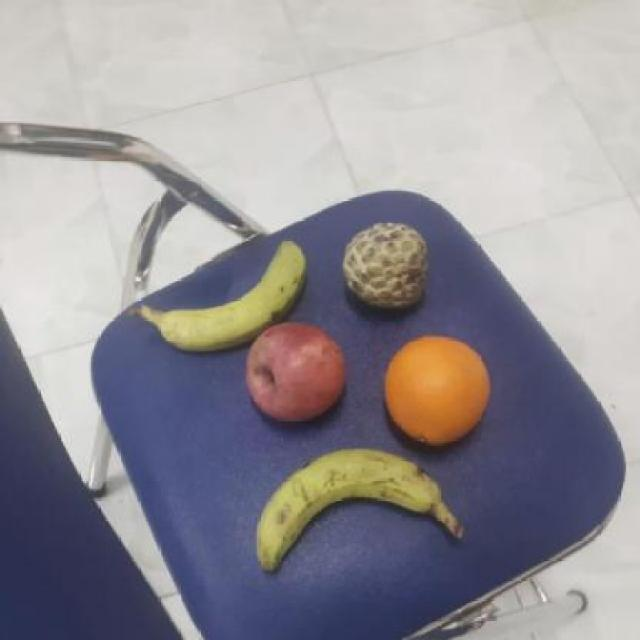apple: (239, 321, 350, 424)
banana: (252, 445, 443, 573), (155, 225, 316, 353)
oren: (379, 333, 496, 449)
sugar apple: (339, 216, 433, 310)
